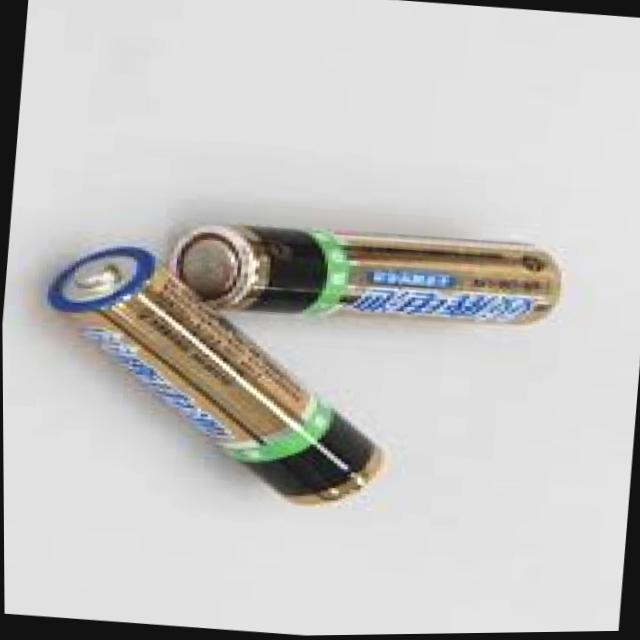B3: (1, 173, 587, 556)
